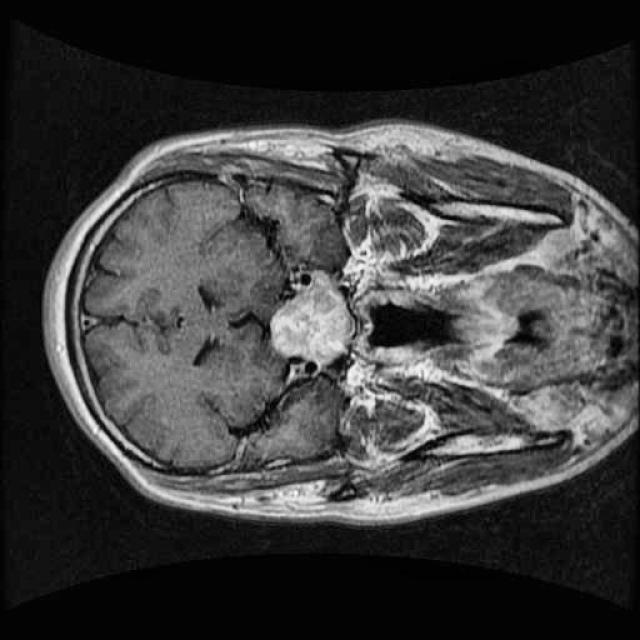Tumor: (256, 254, 366, 385)
